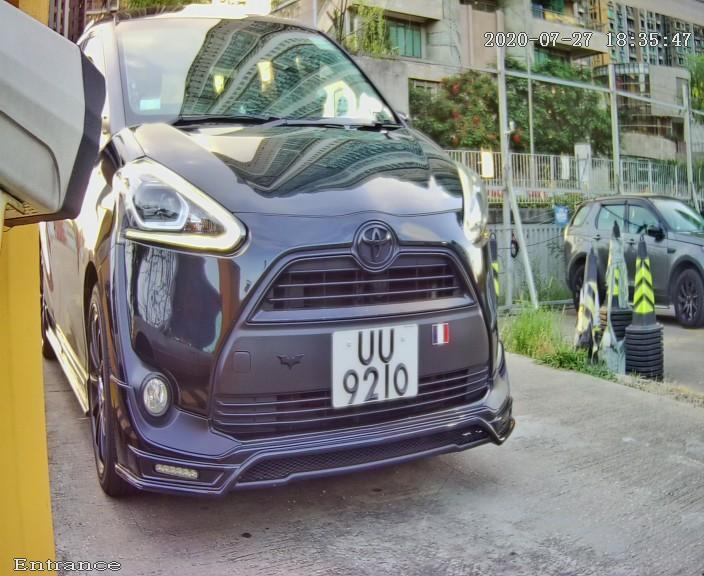privatecar: (48, 16, 582, 523)
